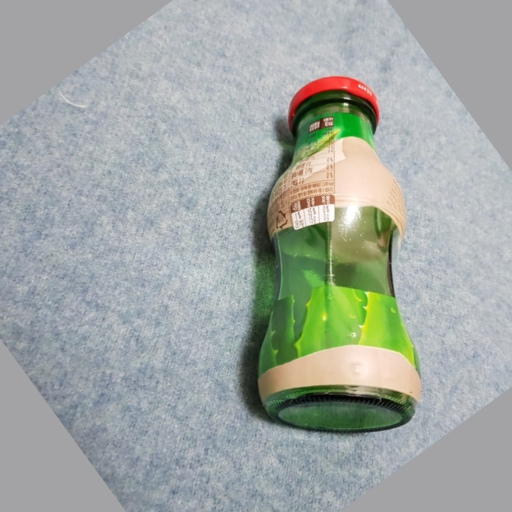Glass_4: (243, 77, 424, 430)
